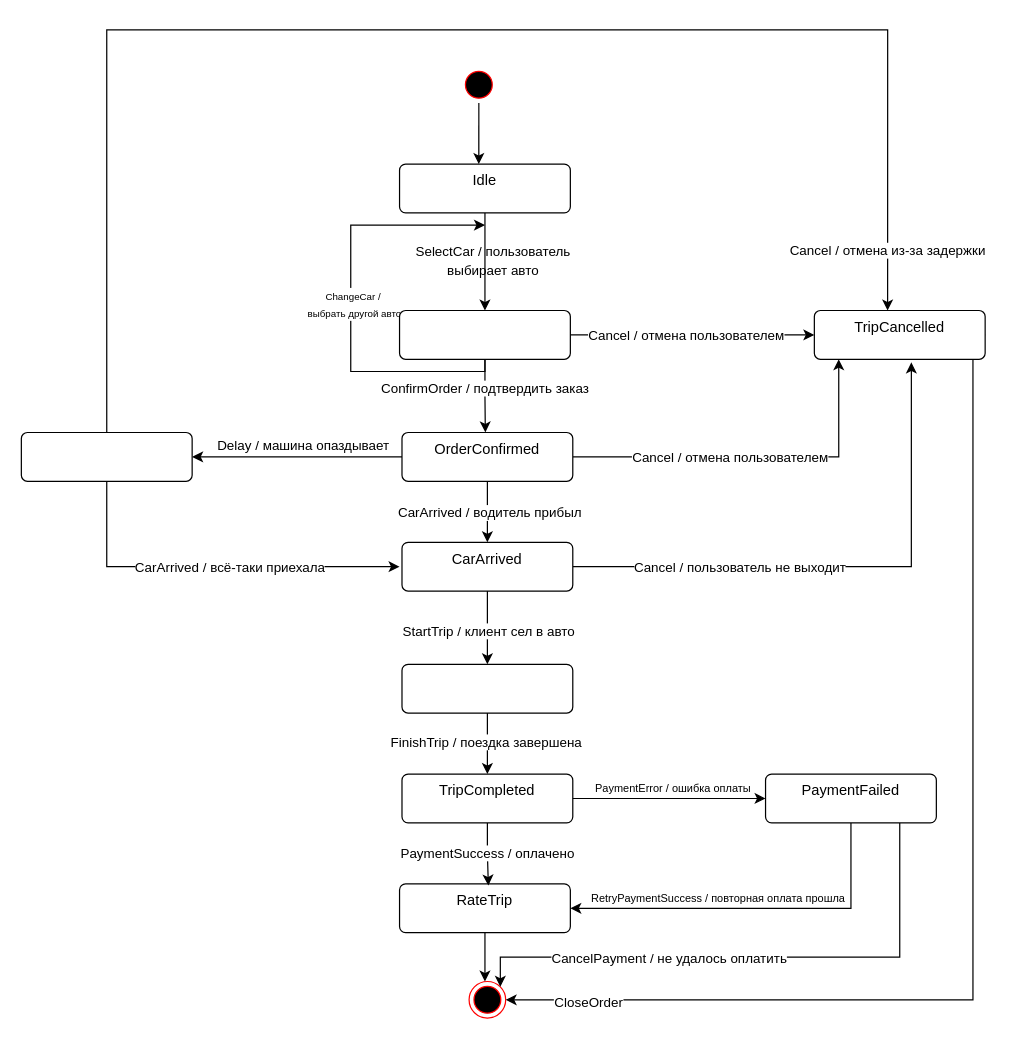
The diagram is 1016 pixels wide and 1039 high, and some of its shapes have lost their labels. The centre of each missing label's shape, as x and y in pixels:
CarDelayed: (x=106, y=456)
CarSelected: (x=484, y=334)
InTrip: (x=487, y=688)
